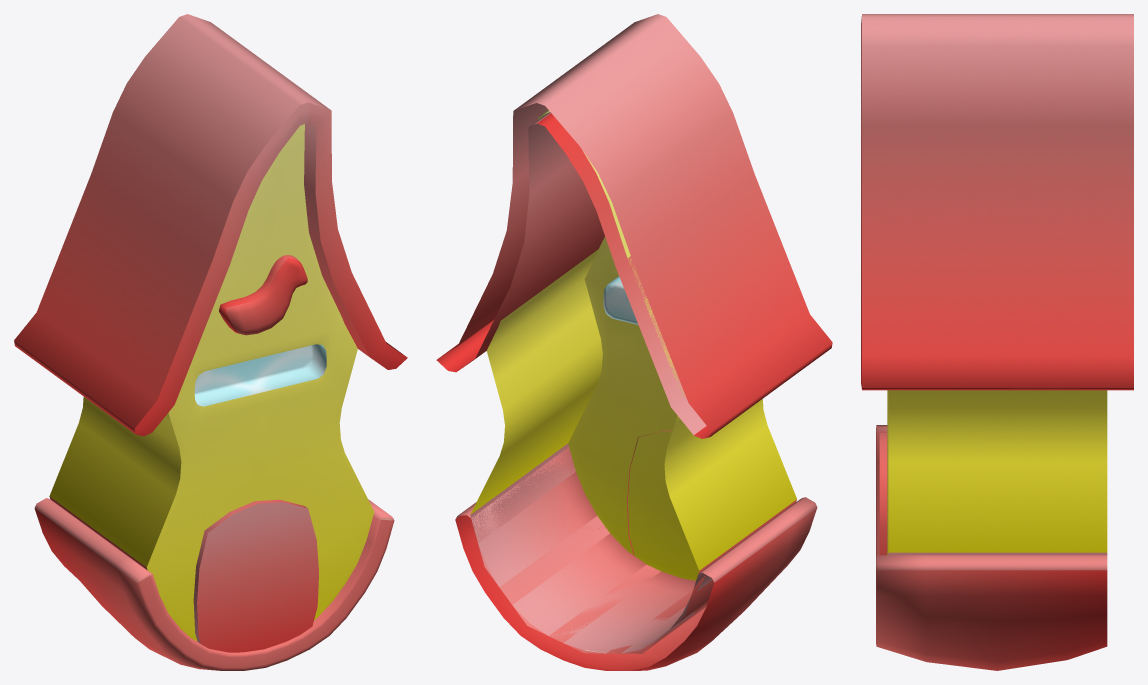
The model's file is Mailbox_D_yellow.fbx.
3 renders of one model, left to right at view 1: azimuth 30°, elevation 25°; view 2: azimuth 150°, elevation 25°; view 3: azimuth 270°, elevation 25°, orthographic. The views are drawn at different scales.
Parts seen in each view (by area): view 1: MailboxD_yellow; view 2: MailboxD_yellow; view 3: MailboxD_yellow.
Boxes of the visible parts, <box> form: MailboxD_yellow: <box>14,14,407,670</box>; MailboxD_yellow: <box>436,14,832,670</box>; MailboxD_yellow: <box>861,14,1133,670</box>.
Bounding box in the file's own units: 1.2 × 0.9207 × 2.45.
